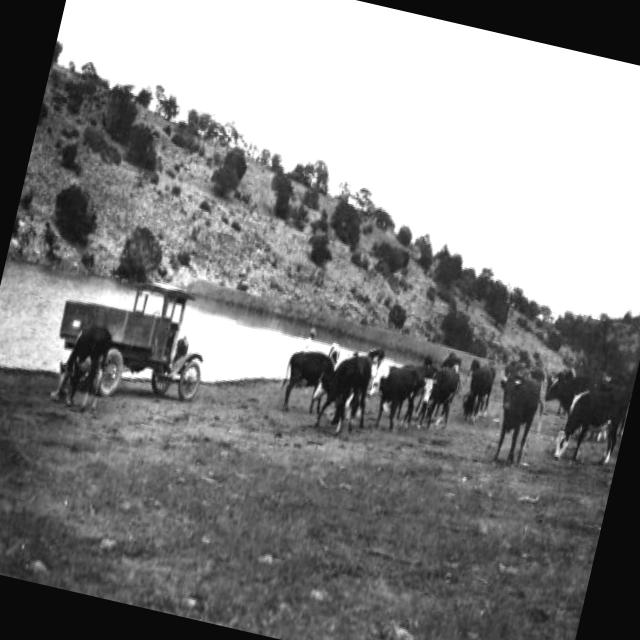Vehicle: (47, 262, 220, 414)
